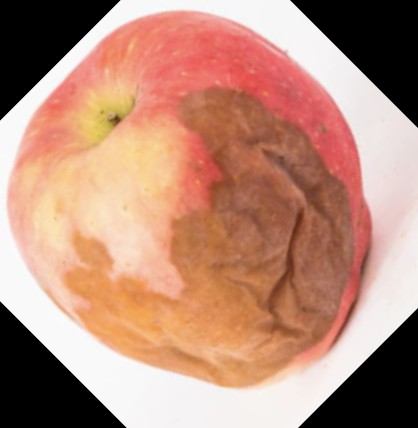rotten_apple: (8, 11, 371, 389)
